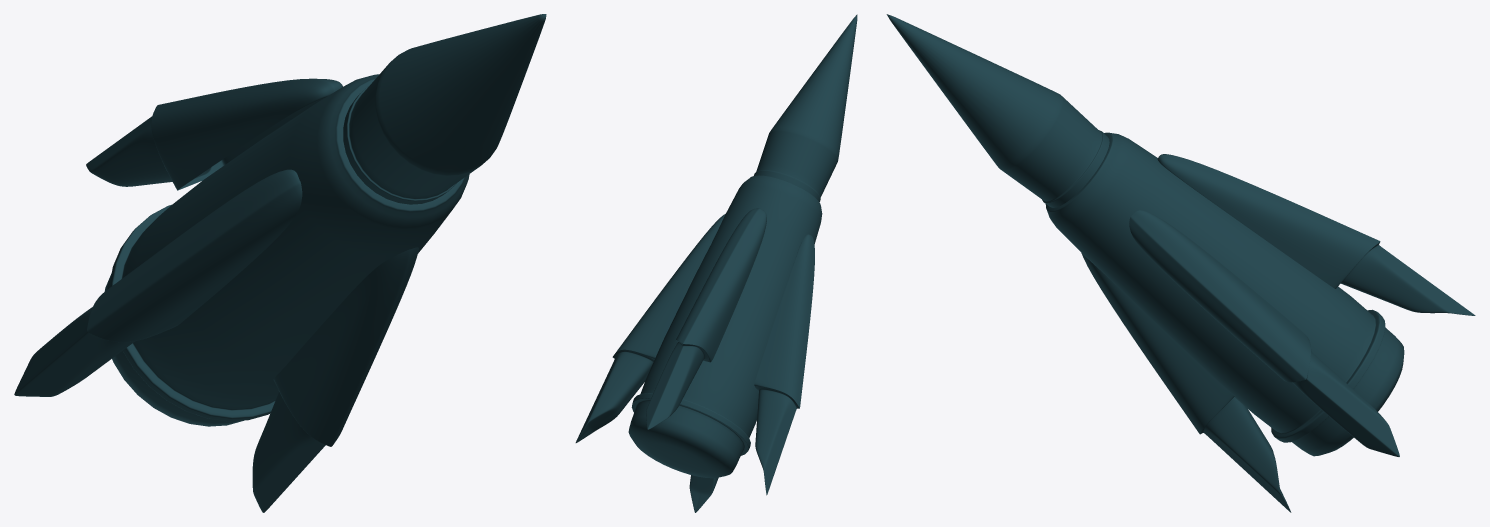
File: Arpione.fbx
3 views of the same model, side by side, from view 1: azimuth 30°, elevation 25°; view 2: azimuth 150°, elevation 25°; view 3: azimuth 270°, elevation 25° (orthographic). The views are drawn at different scales.
Parts seen in each view (by area): view 1: Parte centrale, alettoni, Punta, alettoni.001; view 2: Parte centrale, alettoni.001, alettoni, Punta; view 3: Parte centrale, alettoni, Punta, alettoni.001.
Part boxes in pixels (<box>): Parte centrale: <box>104,74,469,426</box>; alettoni: <box>86,78,418,512</box>; Punta: <box>343,14,546,204</box>; alettoni.001: <box>14,169,302,396</box>; Parte centrale: <box>628,175,822,478</box>; alettoni.001: <box>575,214,814,495</box>; alettoni: <box>646,208,766,512</box>; Punta: <box>754,14,857,201</box>; Parte centrale: <box>1045,132,1404,456</box>; alettoni: <box>1081,154,1475,512</box>; Punta: <box>886,14,1109,207</box>; alettoni.001: <box>1129,210,1399,456</box>.
Bounding box in the file's own units: 34.57 × 75.74 × 70.34.
